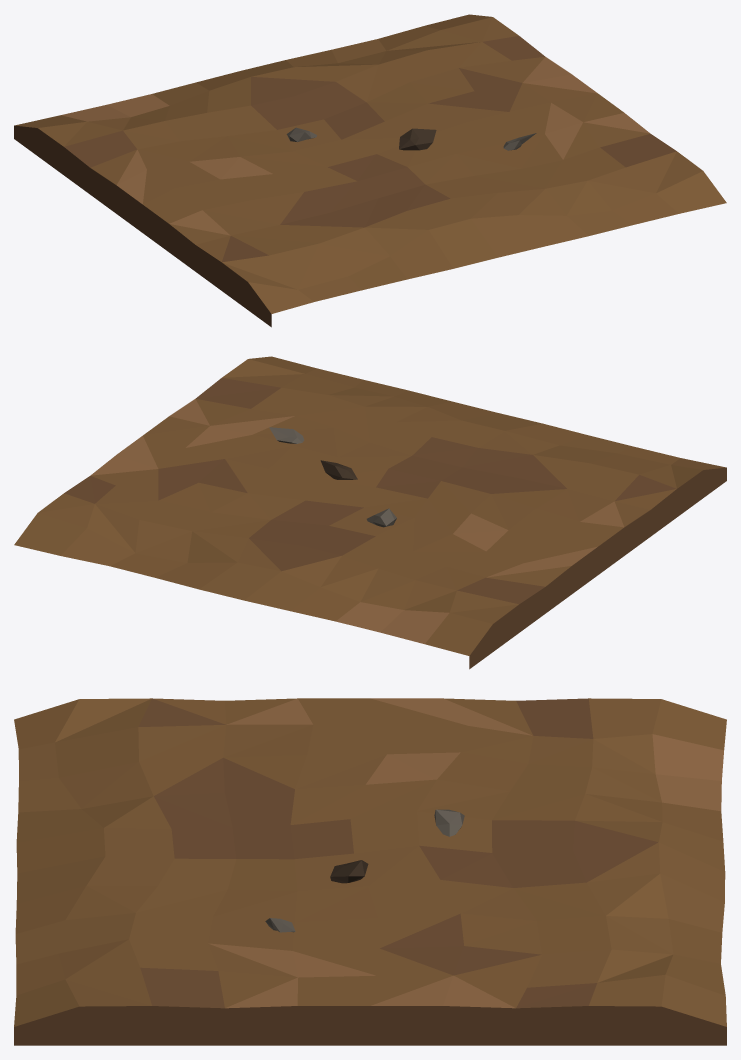
Rendered from mdvl_nature_path_dirt_01.glb.
The picture shows the model from 3 angles, top to bottom: view 1: azimuth 30°, elevation 25°; view 2: azimuth 150°, elevation 25°; view 3: azimuth 270°, elevation 25°; orthographic projection. The views are drawn at different scales.
Visible parts, largest first — view 1: mdvl_nature_path_dirt_01; view 2: mdvl_nature_path_dirt_01; view 3: mdvl_nature_path_dirt_01.
Part boxes in pixels (x1,y1,x2,y2): mdvl_nature_path_dirt_01: (14,14,726,327); mdvl_nature_path_dirt_01: (14,356,726,669); mdvl_nature_path_dirt_01: (14,698,726,1045).
Bounding box in the file's own units: 1 × 0.0881 × 0.98.
Materials: 1 (1 with a texture image).
